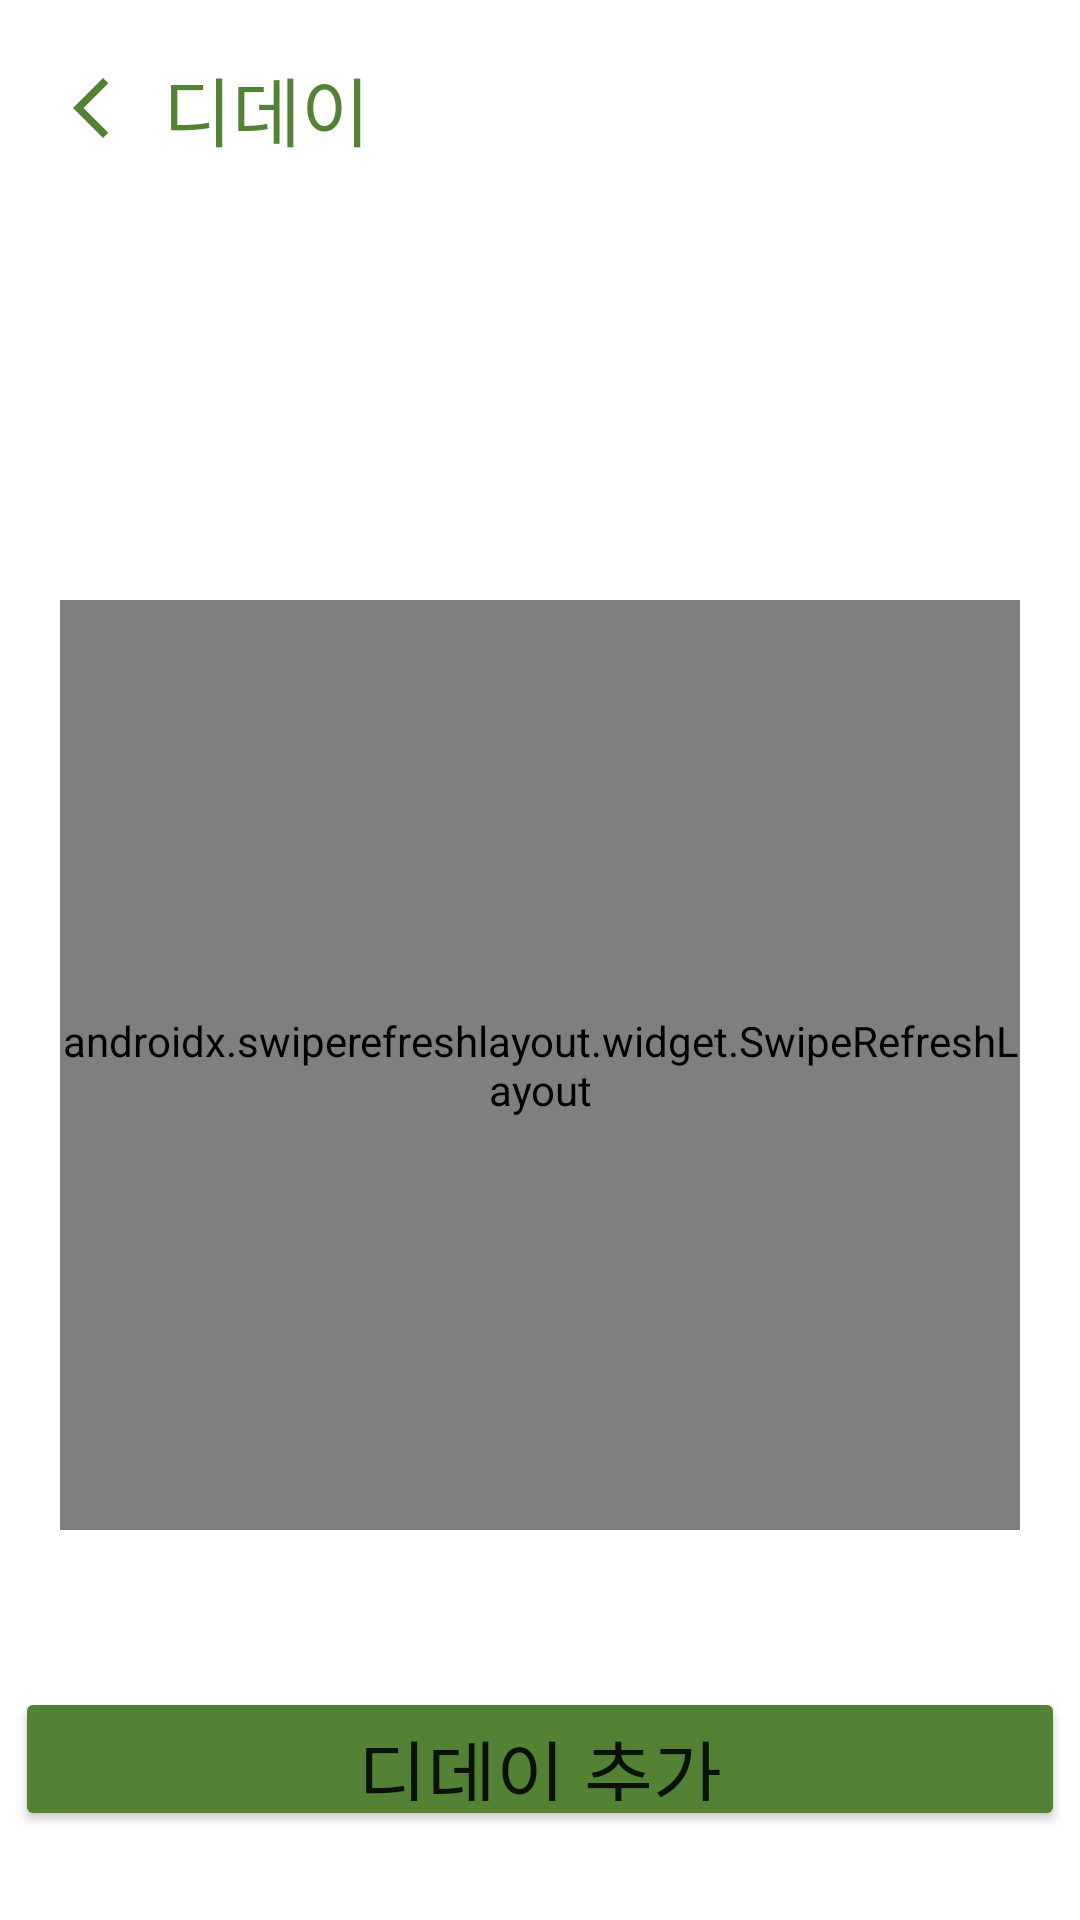

Screen size 1080x1920. Icon name, then its box in pixels as (x1, y1, x2, y2):
back: (73, 78, 108, 138)
